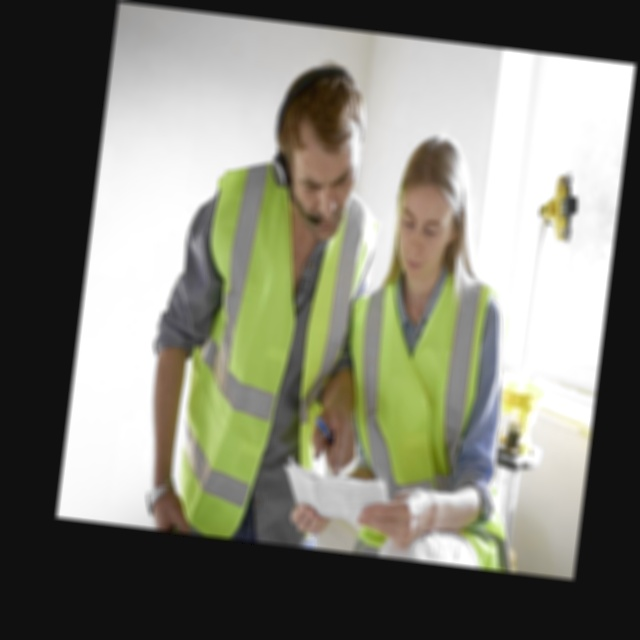Con_Chaleco: (174, 193, 369, 542), (329, 266, 507, 568)
